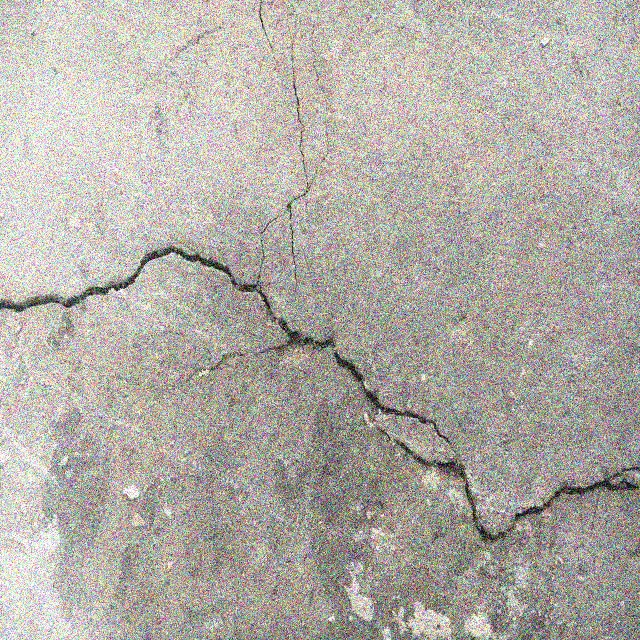SurfaceCrack: (1, 221, 640, 574)
